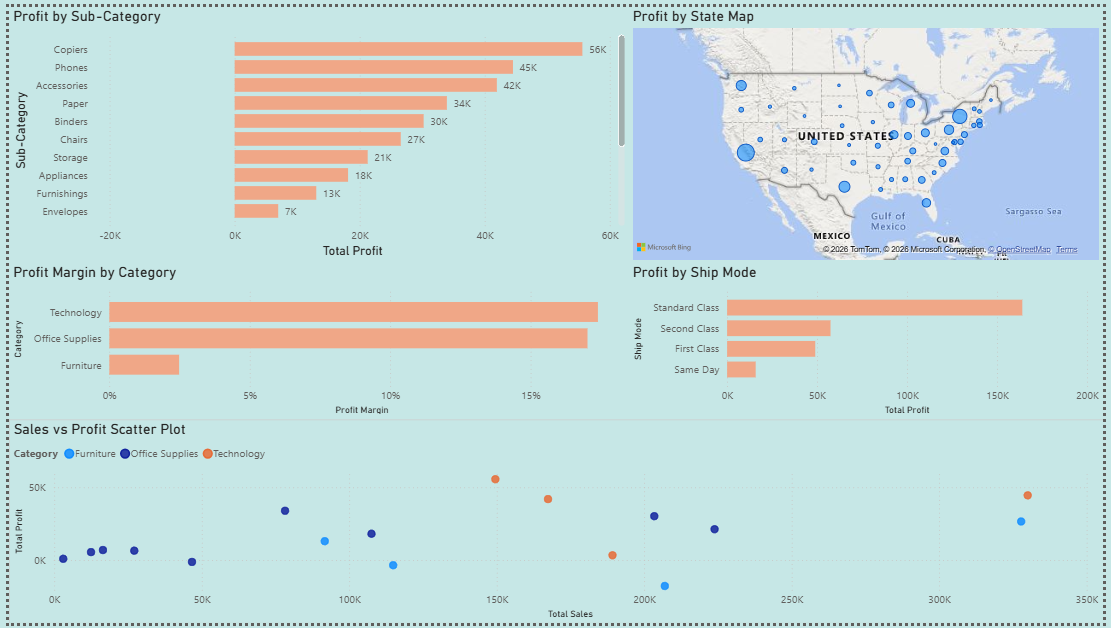

The page's visual inventory and layout, read from the dashboard file:
{"tool":"powerbi","page":{"name":"Profit Drivers Analysis","canvas":[1280,720],"ordinal":1},"visuals":[{"type":"barChart","title":"Profit by Sub-Category","fields":{"Category":["cleaned_superstore.Sub-Category"],"Y":["cleaned_superstore.Total Profit"]},"box":[0,0,725.3,297.4],"z":0},{"type":"barChart","title":"Profit Margin by Category","fields":{"Category":["cleaned_superstore.Category"],"Y":["cleaned_superstore.Profit Margin %"]},"box":[0,300.6,725.3,181.3],"z":1000},{"type":"map","title":"Profit by State Map","fields":{"Category":["cleaned_superstore.State"],"Size":["cleaned_superstore.Total Sales"]},"box":[725.3,0,555.1,300.6],"z":2000},{"type":"scatterChart","title":"Sales vs Profit Scatter Plot","fields":{"X":["cleaned_superstore.Total Sales"],"Y":["cleaned_superstore.Total Profit"],"Series":["cleaned_superstore.Category"],"Category":["cleaned_superstore.Sub-Category"]},"box":[0,482,1280.4,238.6],"z":3000},{"type":"barChart","title":"Profit by Ship Mode","fields":{"Category":["cleaned_superstore.Ship Mode"],"Y":["Sum(cleaned_superstore.Profit)"]},"box":[725.3,300.6,555.1,181.3],"z":4000}]}

Visuals, with their boxes in screenshot pixels (x1, y1, x2, y2), scaled from the page's 1280x720 canvas onto the 1111x628 screenshot:
"Profit by Sub-Category" barChart: box(0, 0, 630, 259)
"Profit Margin by Category" barChart: box(0, 262, 630, 420)
"Profit by State Map" map: box(630, 0, 1110, 262)
"Sales vs Profit Scatter Plot" scatterChart: box(0, 420, 1110, 627)
"Profit by Ship Mode" barChart: box(630, 262, 1110, 420)
